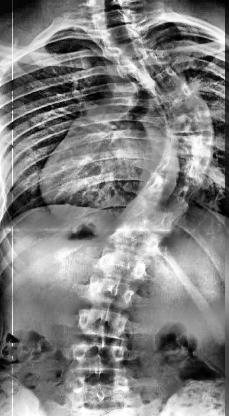Vertebrae: (120, 195, 180, 239), (70, 304, 132, 344), (92, 245, 160, 281), (66, 340, 130, 376), (104, 219, 166, 255), (83, 274, 147, 308), (154, 150, 216, 184), (142, 173, 200, 208), (121, 44, 174, 82), (162, 100, 216, 136), (138, 66, 188, 104), (154, 82, 204, 118), (160, 130, 216, 161), (93, 21, 153, 49), (102, 35, 162, 63), (87, 5, 144, 29)
